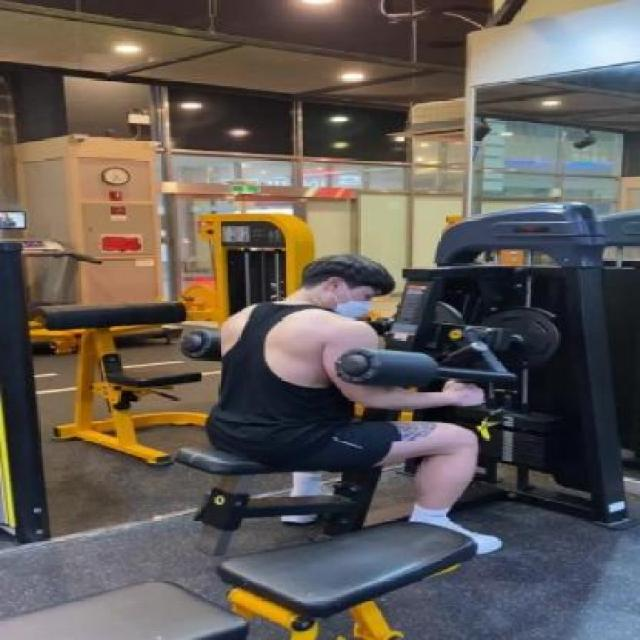lateral raises machine: (177, 280, 640, 557)
